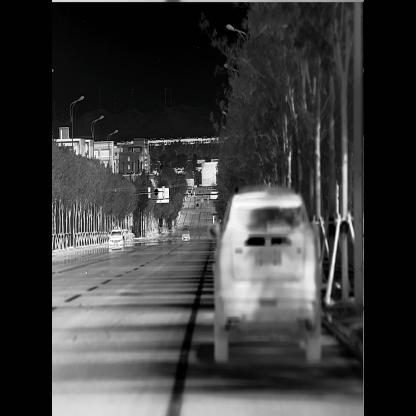car: (207, 178, 332, 370), (106, 223, 127, 253), (181, 223, 192, 243), (158, 223, 164, 232), (186, 187, 192, 195), (194, 202, 199, 210), (198, 190, 202, 196)
